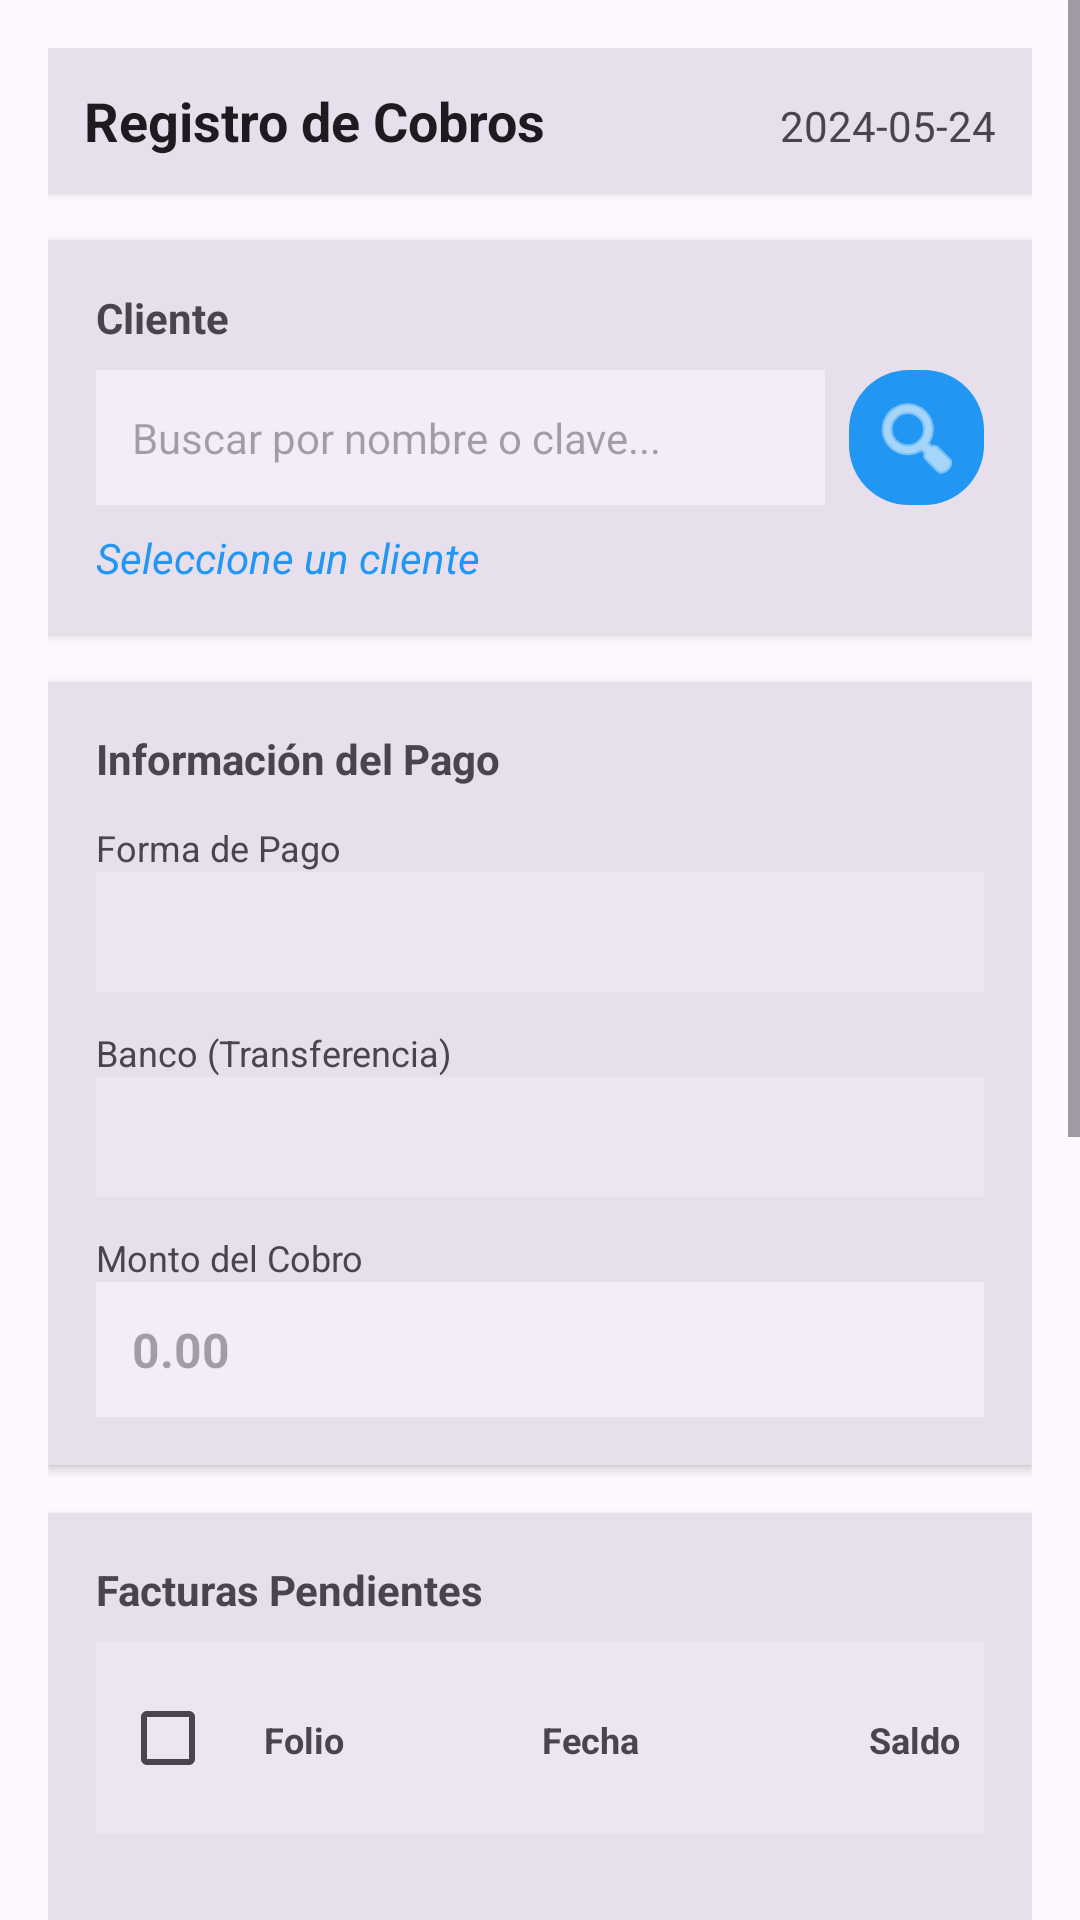

Locate icon controls on the screen. Image size 1080 x 1920, boxes as bbox(x1, y1, x2, y2).
Buscar cliente: bbox(849, 370, 984, 505)
